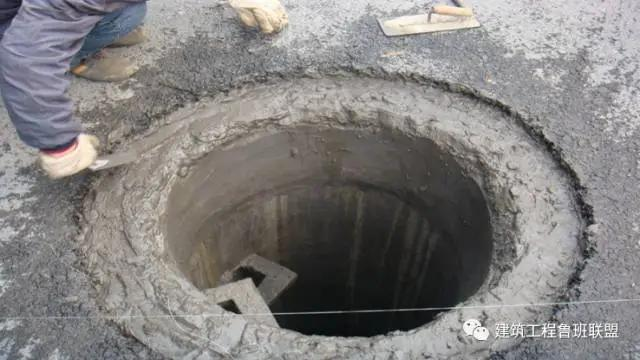wellcover: (104, 96, 577, 360)
